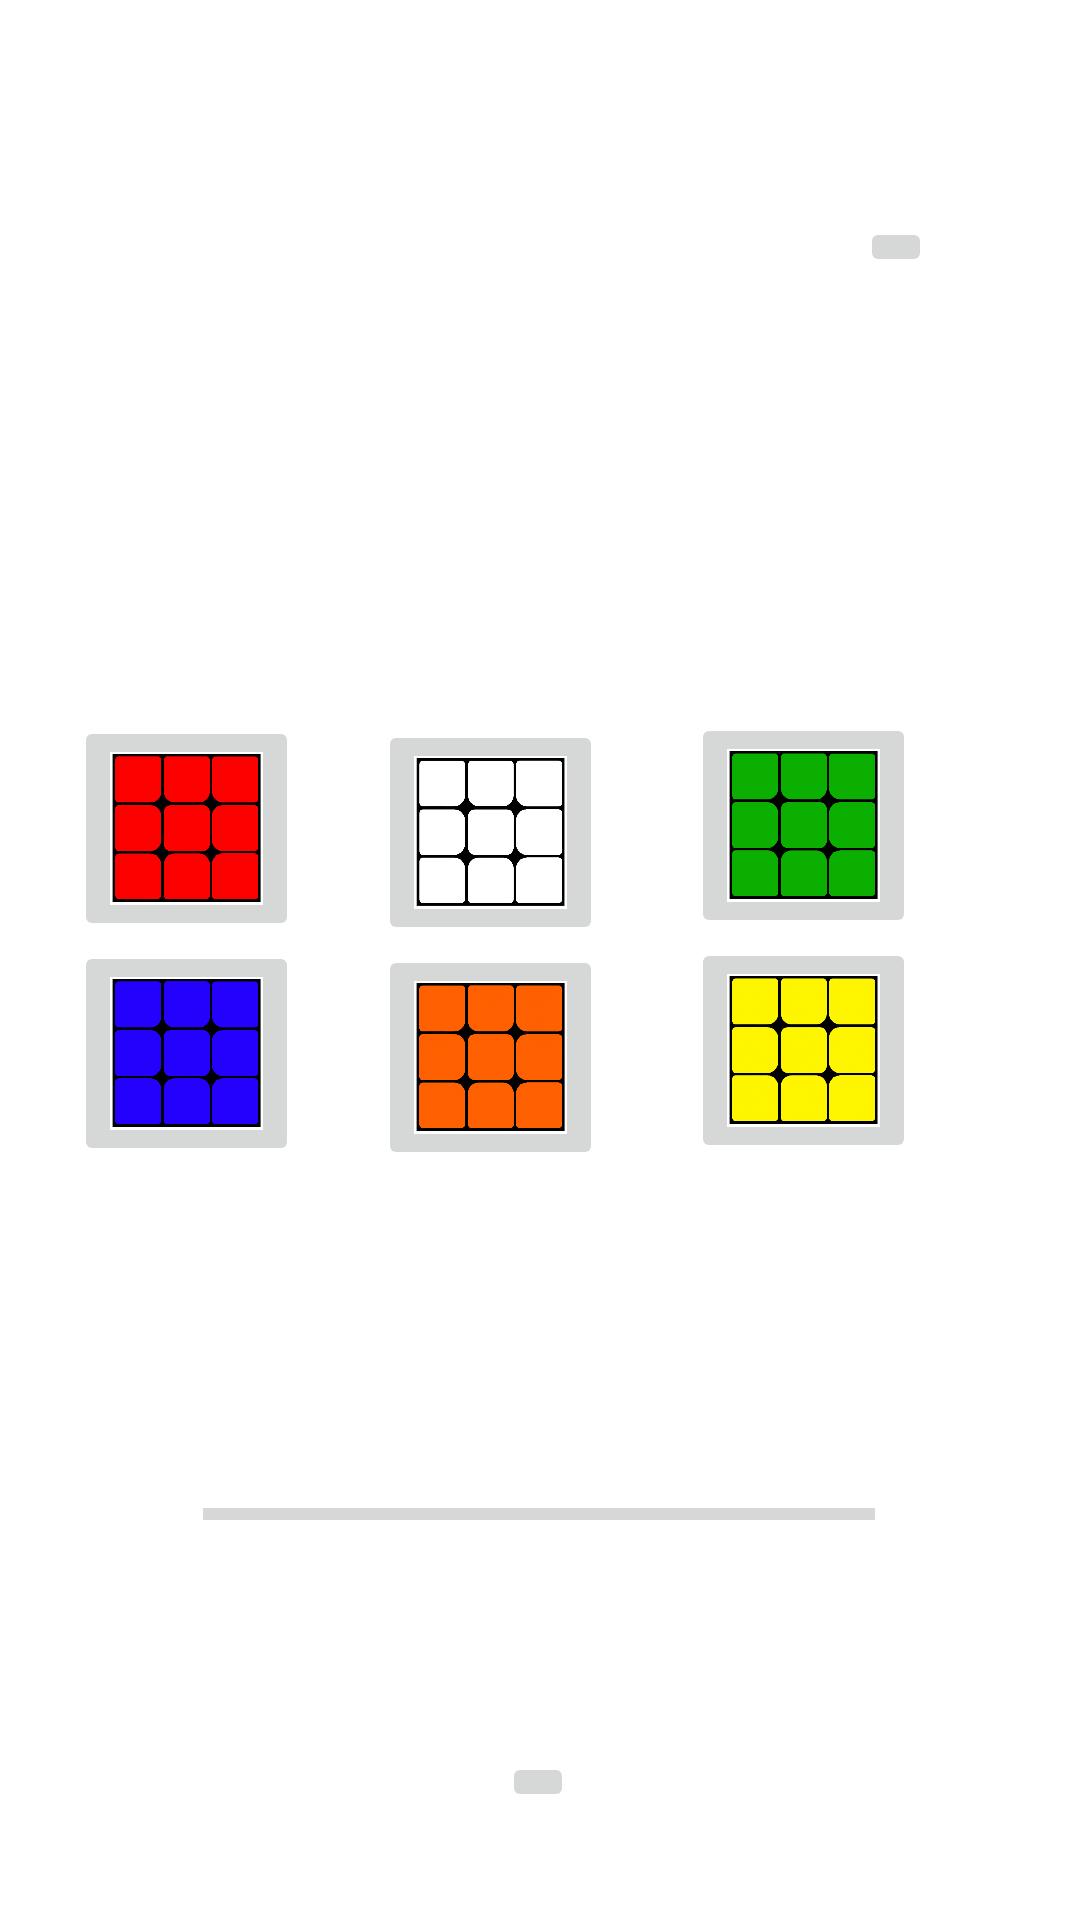

Point at icon controls on the screen. Image size 1080*1920, points as [x,y].
Button for Camera for the blue side of the rubics cube: [186,1053]
Button for Camera for the green side of the rubics cube: [803,825]
Button for Camera for the orange side of the rubics cube: [490,1057]
Button for Camera for the red side of the rubics cube: [186,828]
Button for Camera for the white side of the rubics cube: [490,832]
Button for Camera for the yellow side of the rubics cube: [803,1050]
